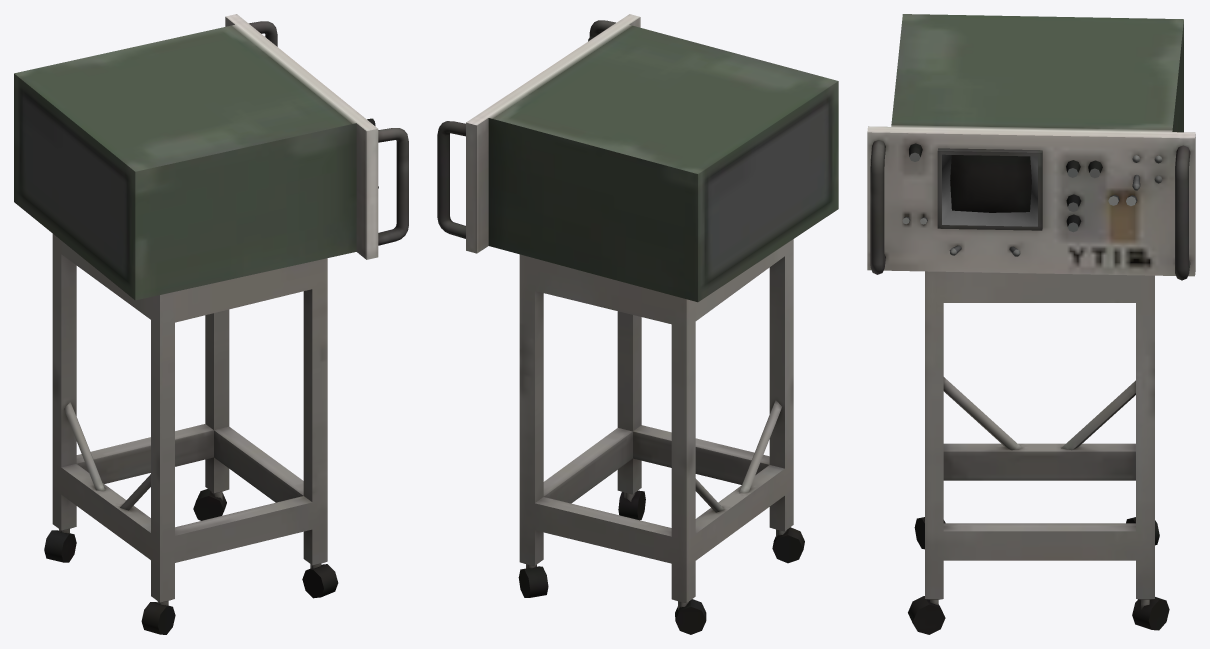
3 views of the same model, side by side, from view 1: azimuth 30°, elevation 25°; view 2: azimuth 150°, elevation 25°; view 3: azimuth 270°, elevation 25° (orthographic). The views are drawn at different scales.
Parts seen in each view (by area): view 1: body0_model0_lod0_mesh0; view 2: body0_model0_lod0_mesh0; view 3: body0_model0_lod0_mesh0.
Boxes of the visible parts, left/top/right/bottom form: body0_model0_lod0_mesh0: left=14, top=14, right=408, bottom=634; body0_model0_lod0_mesh0: left=437, top=14, right=838, bottom=634; body0_model0_lod0_mesh0: left=867, top=14, right=1195, bottom=634.
Size of the model in its own units: 45.54 by 76.72 by 44.41.
1 material, 1 textured.
